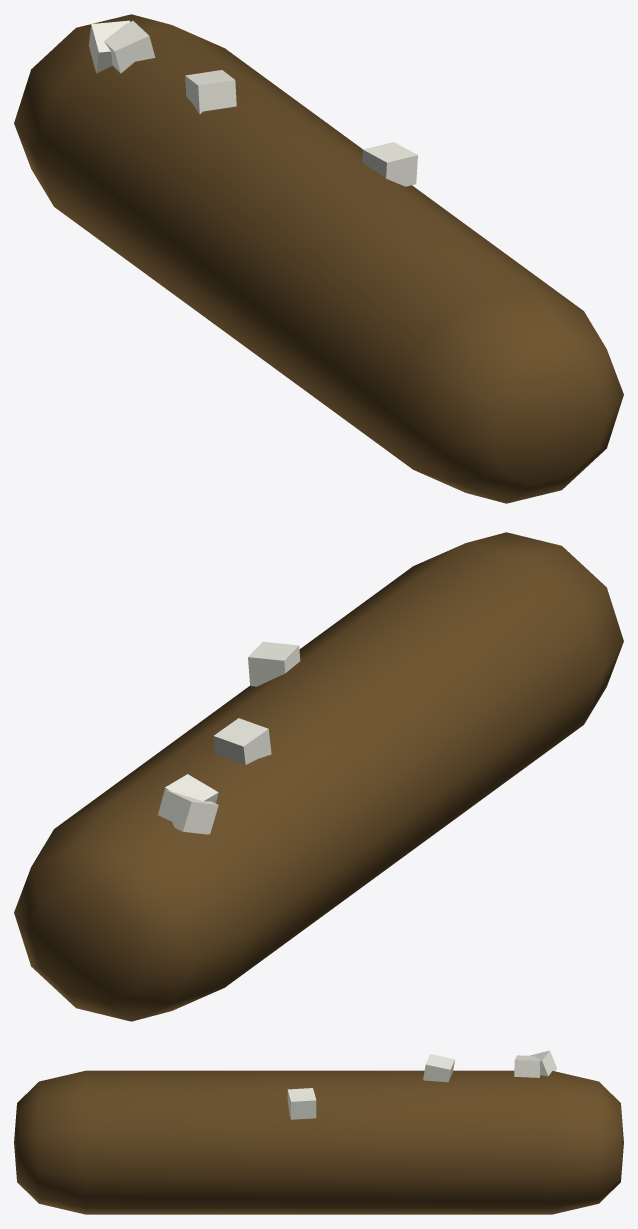
File: shot_pretzel_stick_salt.glb
3 renders of one model, top to bottom at view 1: azimuth 30°, elevation 25°; view 2: azimuth 150°, elevation 25°; view 3: azimuth 270°, elevation 25°, orthographic. The views are drawn at different scales.
Parts seen in each view (by area): view 1: pss_body, pss_salt, pss_salt.003, pss_salt.002, pss_salt.001; view 2: pss_body, pss_salt, pss_salt.001, pss_salt.003, pss_salt.002; view 3: pss_body, pss_salt.003, pss_salt, pss_salt.002, pss_salt.001.
Part boxes in pixels (bbox=[...]): pss_body: bbox=[14, 14, 623, 503]; pss_salt: bbox=[185, 70, 236, 113]; pss_salt.003: bbox=[362, 142, 417, 186]; pss_salt.002: bbox=[104, 21, 155, 73]; pss_salt.001: bbox=[89, 20, 129, 73]; pss_body: bbox=[14, 532, 623, 1021]; pss_salt: bbox=[213, 718, 271, 764]; pss_salt.001: bbox=[158, 789, 218, 834]; pss_salt.003: bbox=[248, 641, 300, 686]; pss_salt.002: bbox=[159, 774, 218, 807]; pss_body: bbox=[14, 1070, 623, 1214]; pss_salt.003: bbox=[287, 1088, 316, 1119]; pss_salt: bbox=[423, 1054, 454, 1082]; pss_salt.002: bbox=[514, 1055, 540, 1077]; pss_salt.001: bbox=[529, 1050, 556, 1076].
Size of the model in its own units: 2.6 by 2.52 by 10.
